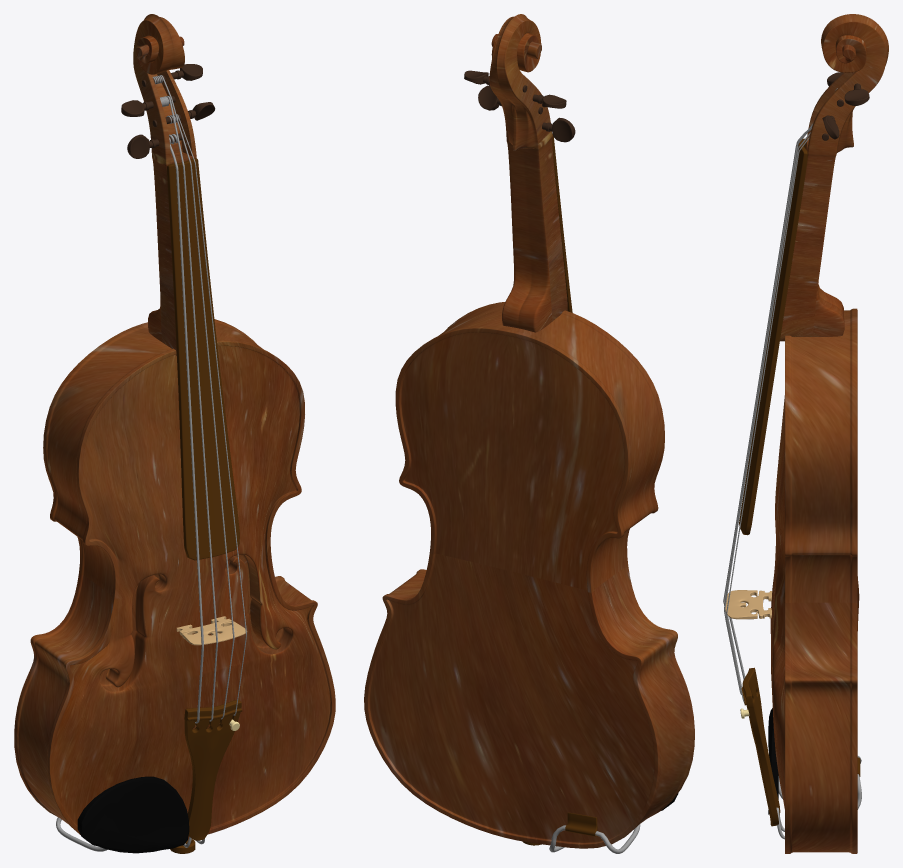
File: Violina_Web_Clean.glb
3 views of the same model, side by side, from view 1: azimuth 30°, elevation 25°; view 2: azimuth 150°, elevation 25°; view 3: azimuth 270°, elevation 25° (orthographic). The views are drawn at different scales.
Parts seen in each view (by area): view 1: KMN_Govde_LP, KMN_Klavye_LP, KMN_Sap_LP, KMN_Cenelik_LP, KMN_Teldibi_LP, KMN_tel_kalın_LP, KMN_tel_kalın_02_LP, KMN_tel_ince_LP, KMN_kopru_LP, KMN_tel_ince_02_LP; view 2: KMN_Govde_LP, KMN_Sap_LP, KMN_Klavye_LP; view 3: KMN_Govde_LP, KMN_Sap_LP, KMN_Klavye_LP, KMN_Teldibi_LP, KMN_tel_kalın_02_LP, KMN_tel_ince_LP, KMN_kopru_LP, KMN_tel_ince_02_LP, KMN_Cenelik_LP, KMN_akordist_sol_ust_LP.
Boxes of the visible parts, bbox=[...] form: KMN_Govde_LP: bbox=[14, 319, 335, 839]; KMN_Klavye_LP: bbox=[167, 158, 239, 560]; KMN_Sap_LP: bbox=[133, 14, 196, 356]; KMN_Cenelik_LP: bbox=[77, 776, 189, 853]; KMN_Teldibi_LP: bbox=[184, 699, 242, 840]; KMN_tel_kalın_LP: bbox=[170, 143, 203, 723]; KMN_tel_kalın_02_LP: bbox=[166, 96, 218, 721]; KMN_tel_ince_LP: bbox=[160, 75, 234, 719]; KMN_kopru_LP: bbox=[176, 616, 247, 645]; KMN_tel_ince_02_LP: bbox=[176, 114, 246, 715]; KMN_Govde_LP: bbox=[364, 302, 694, 848]; KMN_Sap_LP: bbox=[489, 14, 567, 332]; KMN_Klavye_LP: bbox=[552, 134, 572, 312]; KMN_Govde_LP: bbox=[770, 308, 859, 853]; KMN_Sap_LP: bbox=[780, 14, 888, 341]; KMN_Klavye_LP: bbox=[739, 138, 807, 535]; KMN_Teldibi_LP: bbox=[741, 667, 780, 826]; KMN_tel_kalın_02_LP: bbox=[723, 124, 812, 687]; KMN_tel_ince_LP: bbox=[724, 132, 810, 694]; KMN_kopru_LP: bbox=[724, 590, 772, 619]; KMN_tel_ince_02_LP: bbox=[726, 137, 809, 702]; KMN_Cenelik_LP: bbox=[768, 708, 778, 814]; KMN_akordist_sol_ust_LP: bbox=[844, 83, 869, 105].
Size of the model in its own units: 1.98 by 5.41 by 0.9769.
11 materials, 2 textured.
